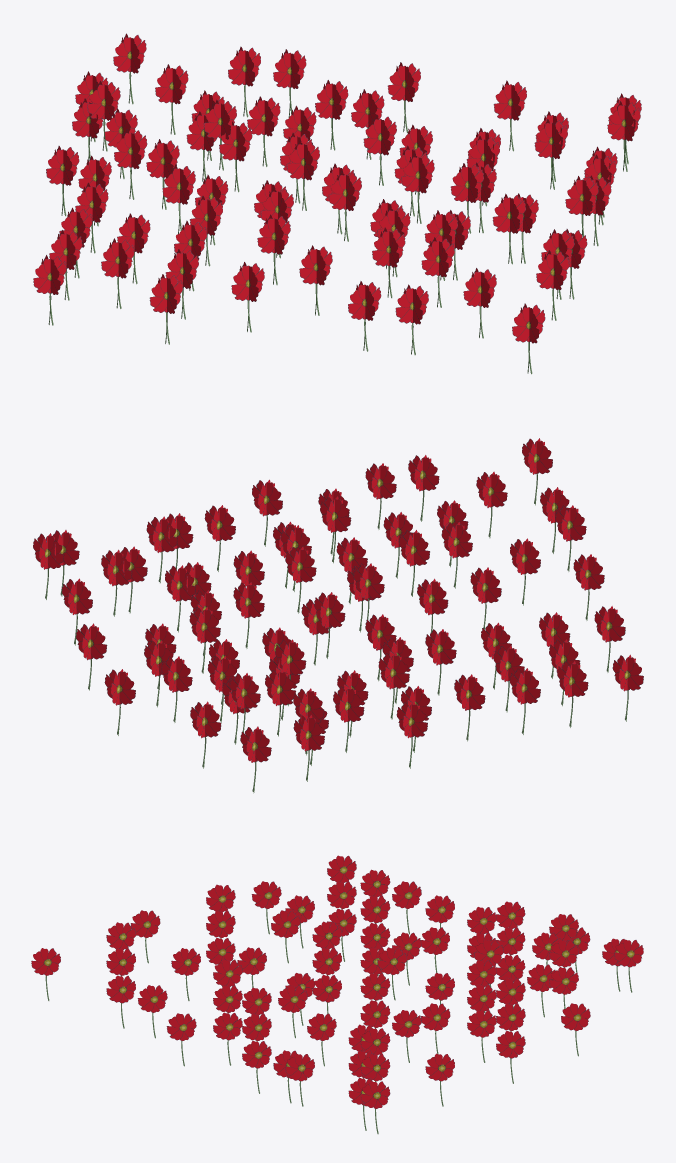
File: flower3.obj
3 renders of one model, top to bottom at view 1: azimuth 30°, elevation 25°; view 2: azimuth 150°, elevation 25°; view 3: azimuth 270°, elevation 25°, orthographic. The views are drawn at different scales.
Visible parts, largest first — view 1: red; view 2: red; view 3: red.
Boxes of the visible parts, x1,y1,x2,y2 form: red: [33, 33, 641, 374]; red: [33, 438, 643, 793]; red: [31, 855, 643, 1134].
Bounding box in the file's own units: 9.2 × 1.28 × 9.95.
1 material, 1 textured.
